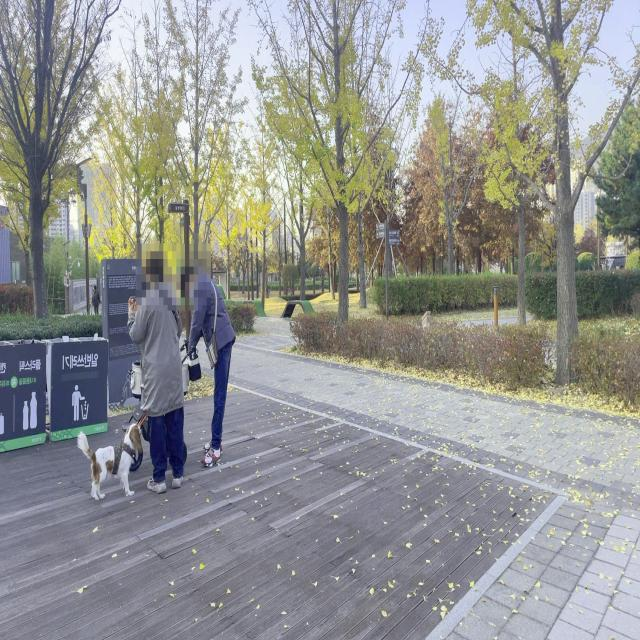Leashed_Dog: (76, 395, 160, 503)
